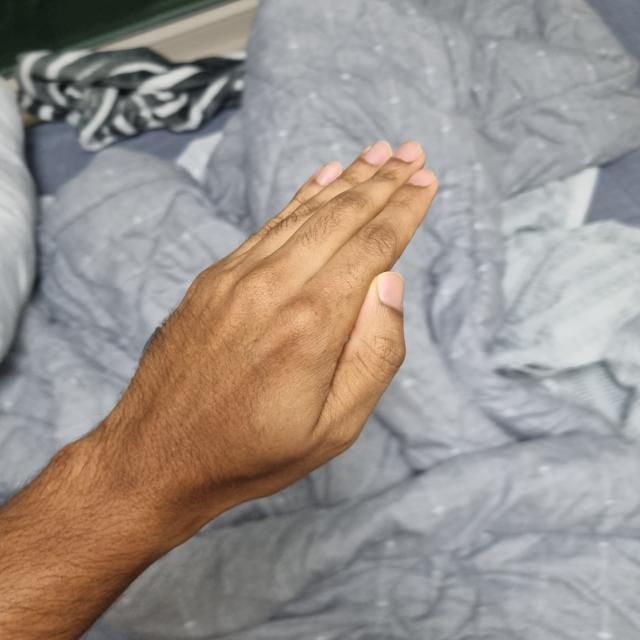Paper: (112, 143, 433, 504)
